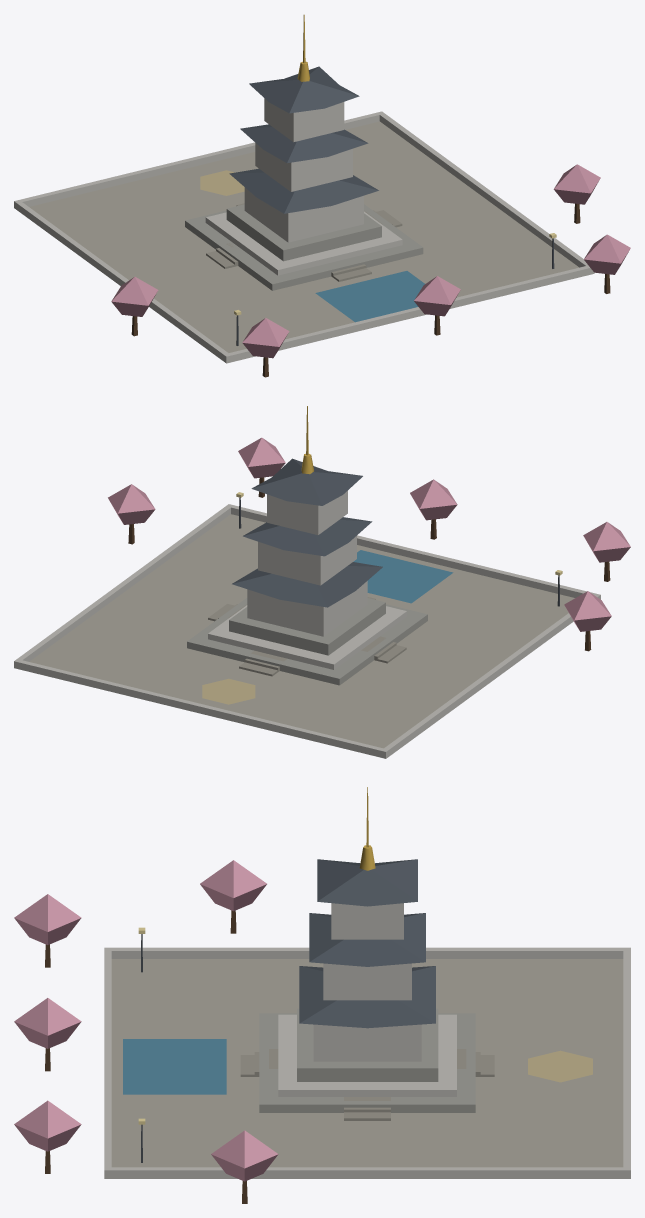
File: mobile.glb
3 views of the same model, one above another, from view 1: azimuth 30°, elevation 25°; view 2: azimuth 150°, elevation 25°; view 3: azimuth 270°, elevation 25° (orthographic). The views are drawn at different scales.
Visible parts, largest first — view 1: lm.peace-pagoda; view 2: lm.peace-pagoda; view 3: lm.peace-pagoda.
Boxes of the visible parts, bbox=[...] form: lm.peace-pagoda: bbox=[14, 14, 630, 377]; lm.peace-pagoda: bbox=[14, 406, 630, 758]; lm.peace-pagoda: bbox=[14, 787, 630, 1203].
Bounding box in the file's own units: 75.2 × 34.9 × 65.6.
